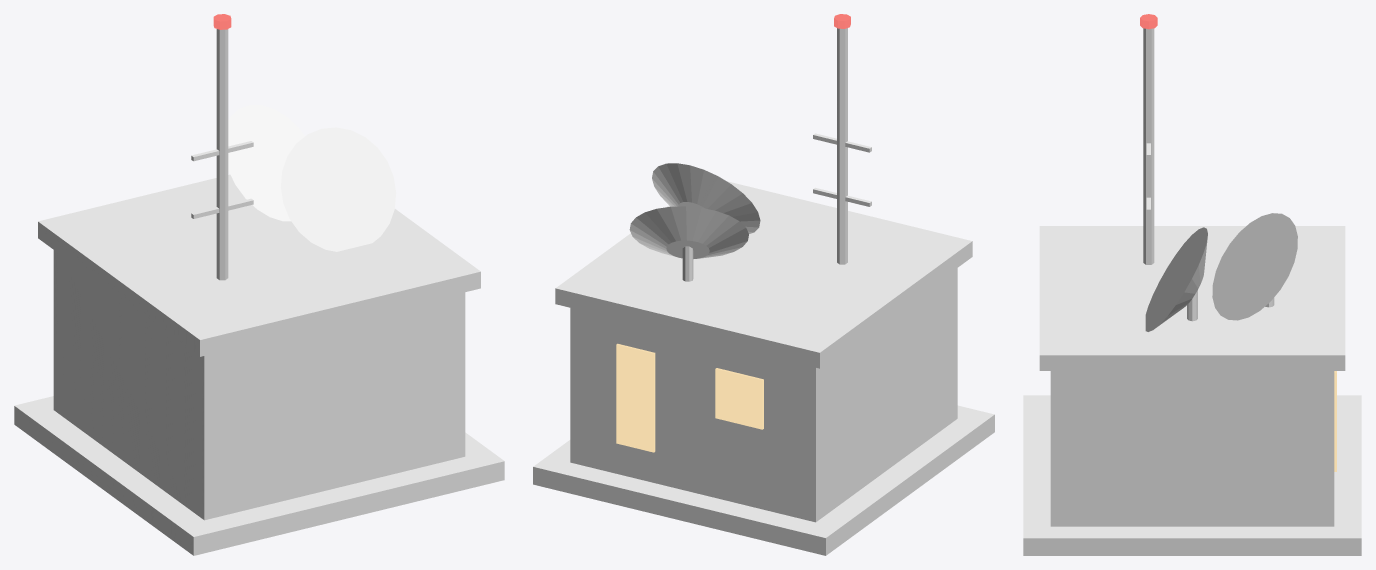
File: SA-001_Now_Telemetry.glb
The picture shows the model from 3 angles, left to right: view 1: azimuth 30°, elevation 25°; view 2: azimuth 150°, elevation 25°; view 3: azimuth 270°, elevation 25°; orthographic projection. The views are drawn at different scales.
Parts seen in each view (by area): view 1: Telemetry_Body, Telemetry_Roof, Building_Plinth.005, Satellite_Dish_0, Satellite_Dish_1, Antenna_Mast; view 2: Telemetry_Body, Telemetry_Roof, Building_Plinth.005, Satellite_Dish_1, Telemetry_Door, Satellite_Dish_0, Antenna_Mast, Telemetry_Window; view 3: Telemetry_Body, Telemetry_Roof, Building_Plinth.005, Satellite_Dish_1, Satellite_Dish_0, Antenna_Mast.
Boxes of the visible parts, x1,y1,x2,y2 form: Telemetry_Body: (53, 250, 465, 520); Telemetry_Roof: (38, 174, 480, 356); Building_Plinth.005: (14, 396, 504, 555); Satellite_Dish_0: (281, 127, 396, 251); Satellite_Dish_1: (228, 105, 304, 221); Antenna_Mast: (216, 29, 228, 280); Telemetry_Body: (570, 268, 957, 522); Telemetry_Roof: (555, 181, 972, 368); Building_Plinth.005: (533, 405, 994, 555); Satellite_Dish_1: (629, 206, 748, 258); Telemetry_Door: (616, 343, 655, 452); Satellite_Dish_0: (652, 163, 760, 233); Antenna_Mast: (837, 28, 847, 264); Telemetry_Window: (715, 368, 763, 429); Telemetry_Body: (1050, 371, 1334, 526); Telemetry_Roof: (1039, 226, 1345, 370); Building_Plinth.005: (1023, 395, 1361, 555); Satellite_Dish_1: (1212, 213, 1297, 320); Satellite_Dish_0: (1145, 227, 1207, 331); Antenna_Mast: (1143, 28, 1154, 264).
Size of the model in its own units: 3.1 by 4.44 by 3.1.
